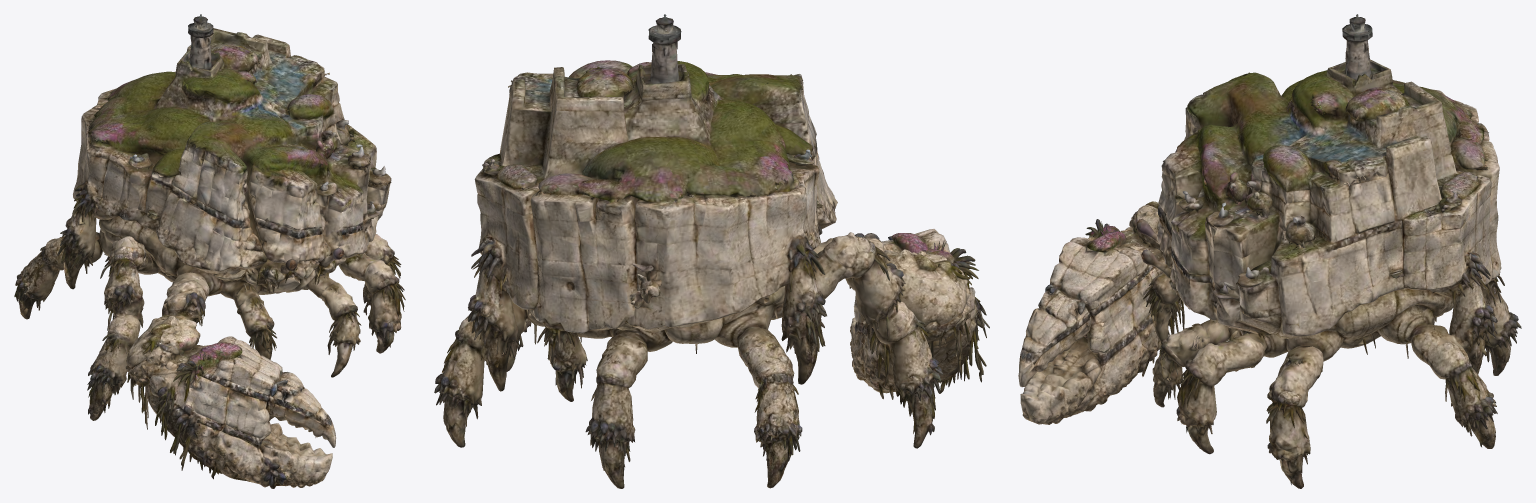
File: giants_cliff-breaker.glb
The picture shows the model from 3 angles, left to right: view 1: azimuth 30°, elevation 25°; view 2: azimuth 150°, elevation 25°; view 3: azimuth 270°, elevation 25°; orthographic projection. The views are drawn at different scales.
Visible parts, largest first — view 1: tripo_node_129a01b5-7822-48bc-92d7-fffe7f25a924; view 2: tripo_node_129a01b5-7822-48bc-92d7-fffe7f25a924; view 3: tripo_node_129a01b5-7822-48bc-92d7-fffe7f25a924.
Part boxes in pixels (box(x1,y1,x2,y2)): tripo_node_129a01b5-7822-48bc-92d7-fffe7f25a924: box(14, 14, 405, 488); tripo_node_129a01b5-7822-48bc-92d7-fffe7f25a924: box(434, 14, 989, 488); tripo_node_129a01b5-7822-48bc-92d7-fffe7f25a924: box(1018, 14, 1521, 488).
Size of the model in its own units: 0.8672 by 0.9185 by 0.9821.
1 material, 1 textured.
